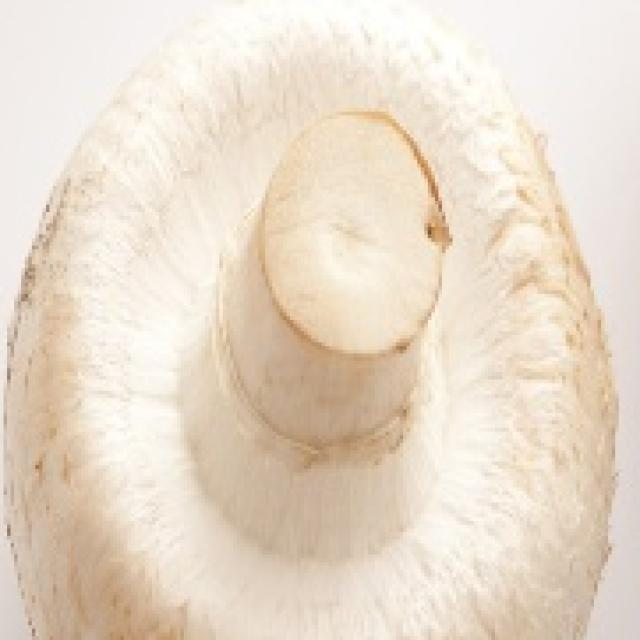mushroom: (11, 0, 630, 640)
